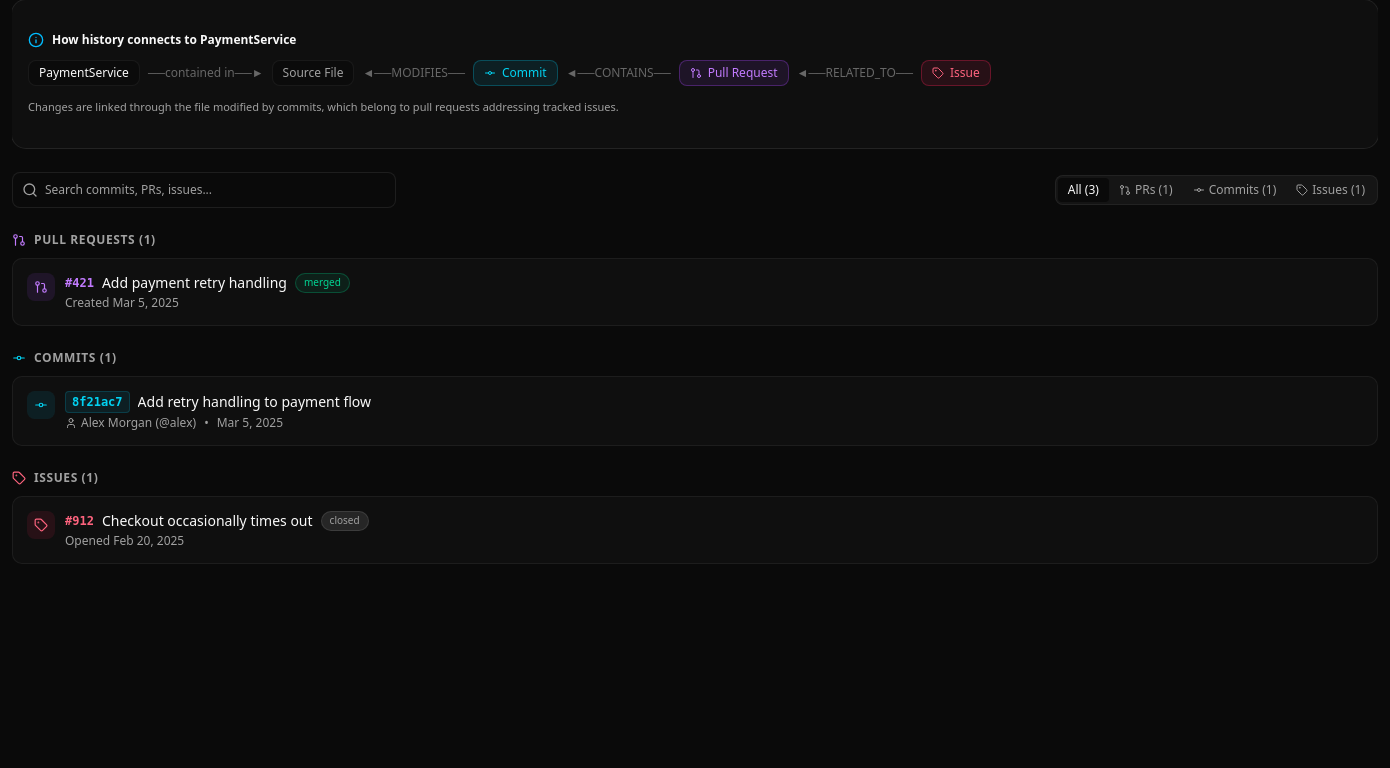
HistoryView › switches sub-tabs between PRs, Commits, and Issues
Switch to PRs tab
Click the button "PRs (1)". click: coordinates (1146, 190)
box: [1109, 178, 1183, 202]
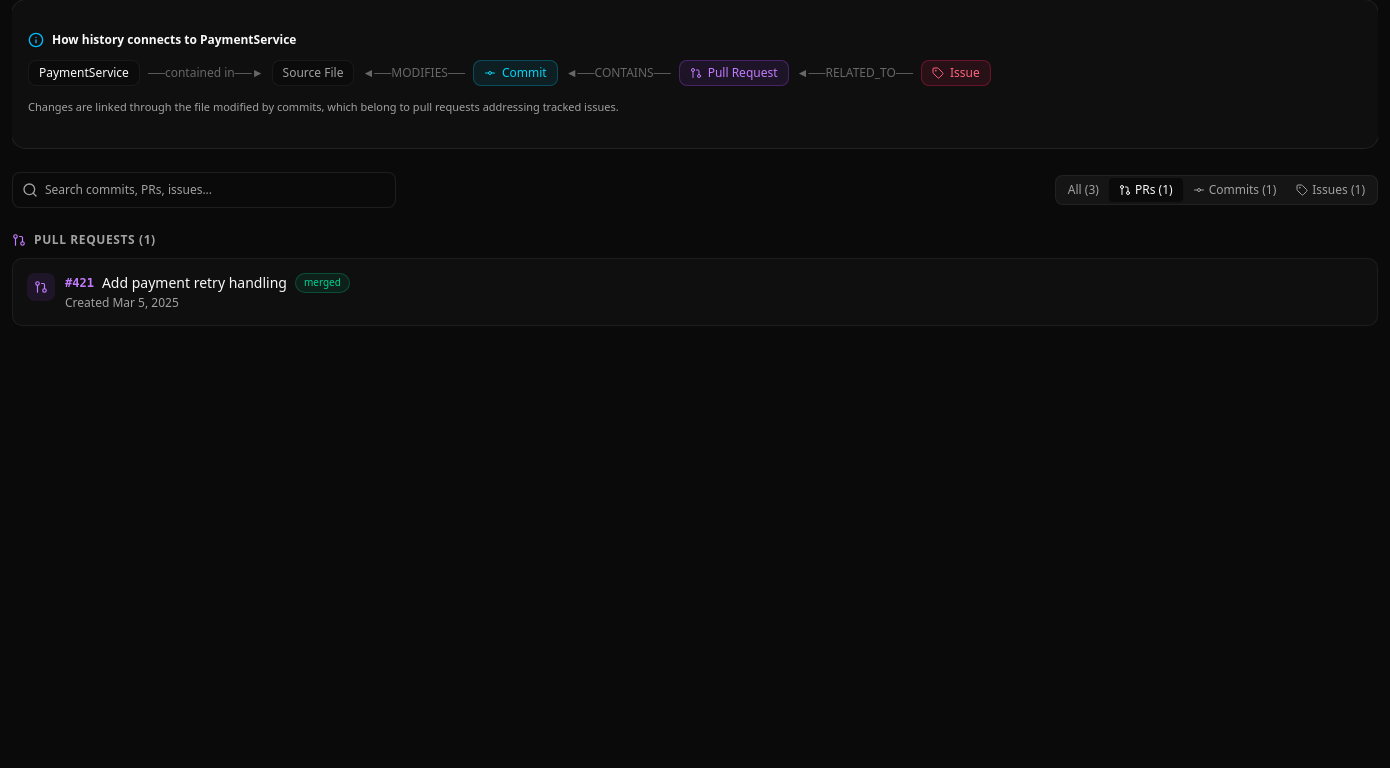
Expected: the text "#421" is shown, [65, 275, 94, 291]
Expected: the text "8f21ac7" is gone
Switch to Commits tab
Click the button "Commits (1)". click: coordinates (1234, 190)
box: [1183, 178, 1286, 202]
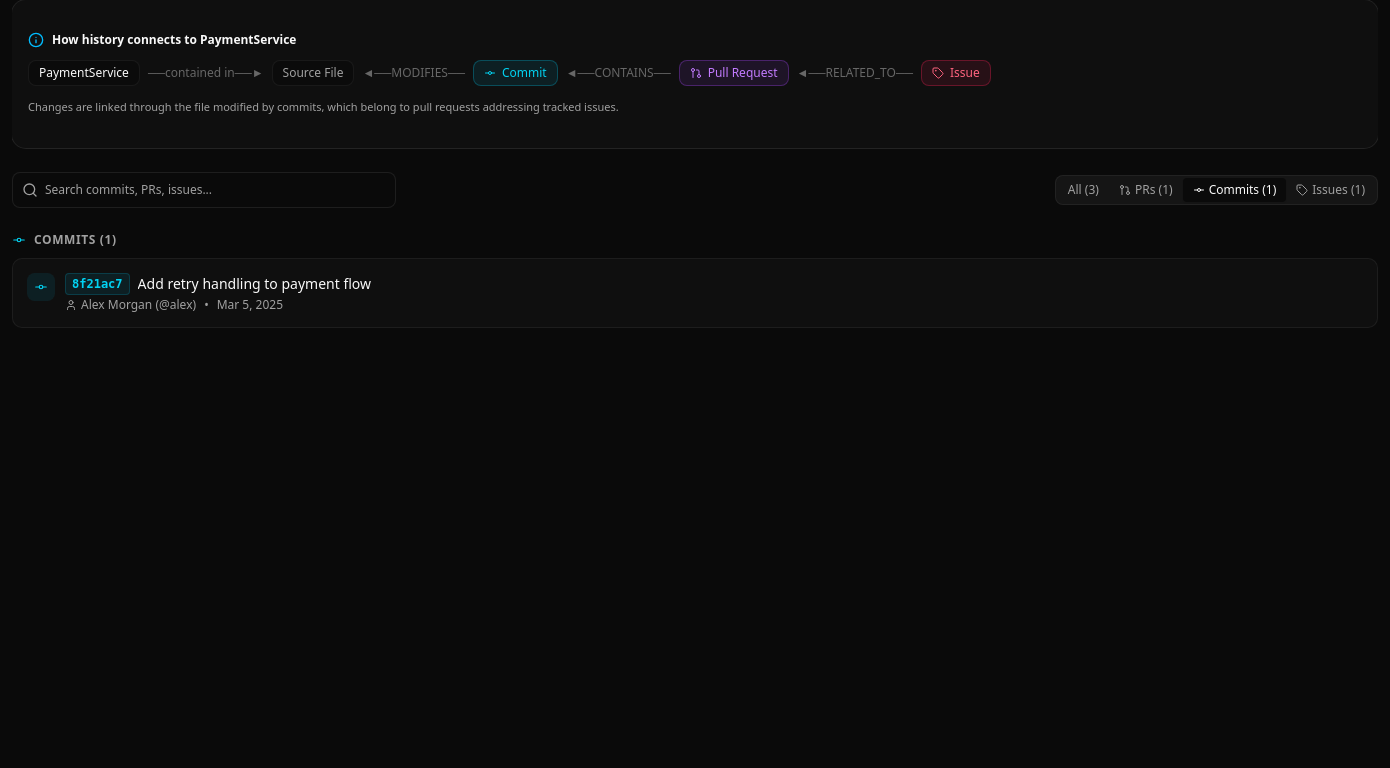
Expected: the text "8f21ac7" is shown, [65, 273, 130, 295]
Expected: the text "#421" is gone
